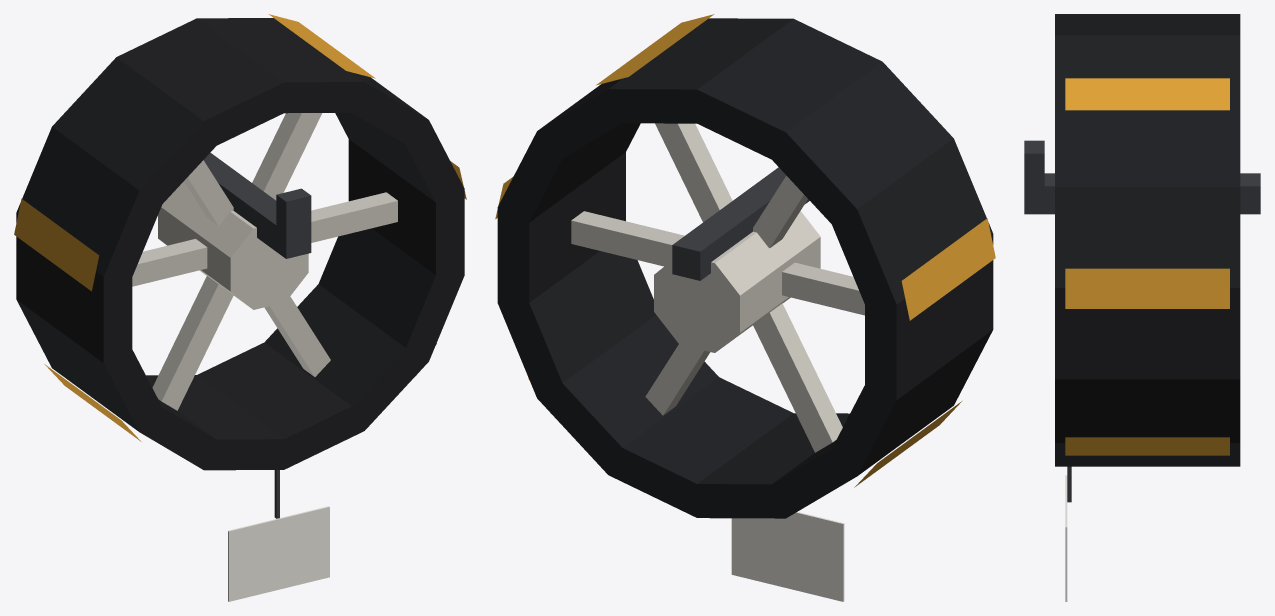
File: dc_wheel_spare.glb
The picture shows the model from 3 angles, left to right: view 1: azimuth 30°, elevation 25°; view 2: azimuth 150°, elevation 25°; view 3: azimuth 270°, elevation 25°; orthographic projection. The views are drawn at different scales.
Parts seen in each view (by area): view 1: dc_wheel_spare; view 2: dc_wheel_spare; view 3: dc_wheel_spare.
Part boxes in pixels (<box>): dc_wheel_spare: <box>14,14,466,601</box>; dc_wheel_spare: <box>495,14,995,601</box>; dc_wheel_spare: <box>1024,14,1260,601</box>.
Size of the model in its own units: 0.4457 by 0.58 by 0.23.
